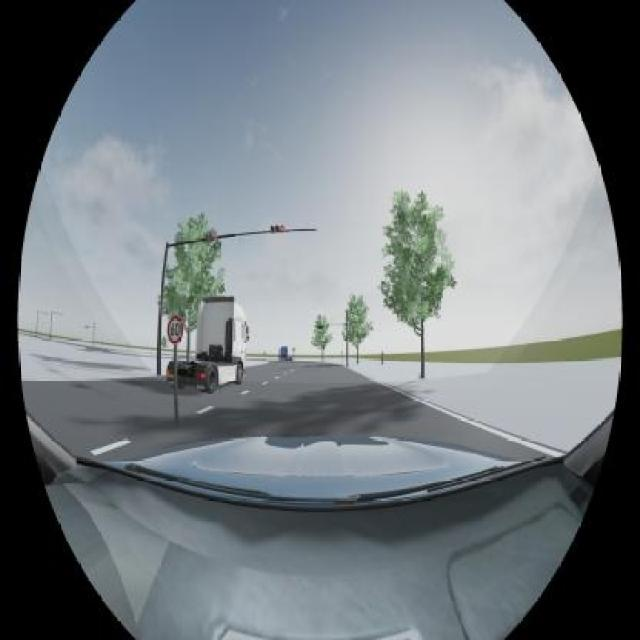forb_speed_over_60: (168, 315, 183, 344)
